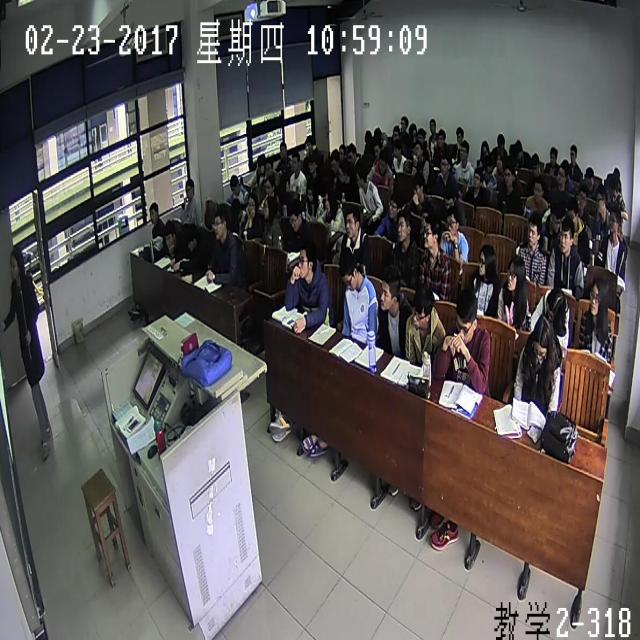person: (453, 294, 477, 345), (530, 315, 551, 369), (381, 270, 399, 315), (546, 286, 564, 328), (423, 214, 441, 252), (412, 288, 429, 326), (298, 242, 314, 280), (590, 278, 605, 316), (344, 209, 362, 240), (396, 210, 411, 246), (507, 258, 522, 292), (476, 245, 492, 276), (342, 256, 356, 290), (9, 248, 24, 278), (527, 215, 540, 248), (560, 220, 572, 253), (446, 209, 459, 239), (608, 205, 620, 235), (213, 212, 226, 239), (421, 202, 431, 236), (263, 194, 276, 220), (443, 184, 456, 210), (412, 175, 424, 201), (550, 206, 561, 234), (291, 201, 301, 230), (388, 193, 400, 217), (530, 150, 540, 178), (245, 191, 256, 216), (595, 190, 605, 217), (165, 224, 176, 248), (186, 224, 196, 250), (502, 165, 513, 188), (325, 188, 335, 213), (566, 201, 576, 225), (339, 161, 349, 183), (440, 153, 450, 175), (231, 198, 241, 219), (533, 184, 544, 203), (557, 164, 566, 187), (585, 166, 594, 188), (473, 165, 481, 189), (149, 202, 158, 223), (185, 179, 194, 200), (347, 142, 356, 163), (357, 166, 366, 187), (391, 122, 400, 143), (496, 131, 505, 152), (548, 145, 557, 166), (230, 173, 239, 193), (459, 139, 468, 159), (484, 157, 493, 177), (514, 139, 523, 159), (577, 190, 586, 210), (612, 166, 621, 186), (437, 126, 445, 148), (290, 151, 299, 170), (306, 180, 314, 201), (330, 150, 338, 171), (379, 152, 387, 173), (569, 144, 577, 165), (256, 155, 264, 175), (308, 153, 316, 173), (265, 176, 273, 195), (508, 142, 516, 161), (264, 158, 273, 174), (374, 125, 382, 143), (610, 183, 618, 201), (365, 130, 373, 147), (409, 120, 417, 137), (304, 135, 312, 151), (414, 142, 422, 158), (400, 115, 408, 131), (418, 126, 425, 144), (495, 152, 502, 170), (482, 140, 489, 157), (393, 140, 400, 156), (456, 126, 463, 142), (279, 141, 286, 156), (429, 117, 435, 132), (339, 145, 345, 159), (374, 143, 380, 156)
